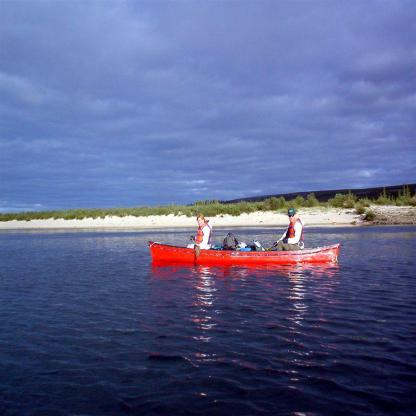face: (198, 219, 204, 227), (290, 214, 295, 223)
